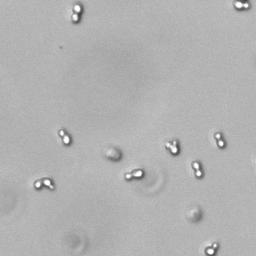budding: (163, 137, 181, 156), (32, 177, 54, 192), (123, 167, 144, 181), (70, 3, 83, 23), (57, 128, 72, 145), (190, 160, 203, 178), (213, 131, 226, 149), (205, 241, 218, 256), (233, 1, 250, 11)
